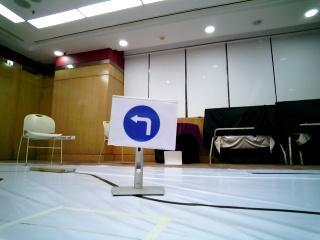left: (117, 98, 171, 149)
